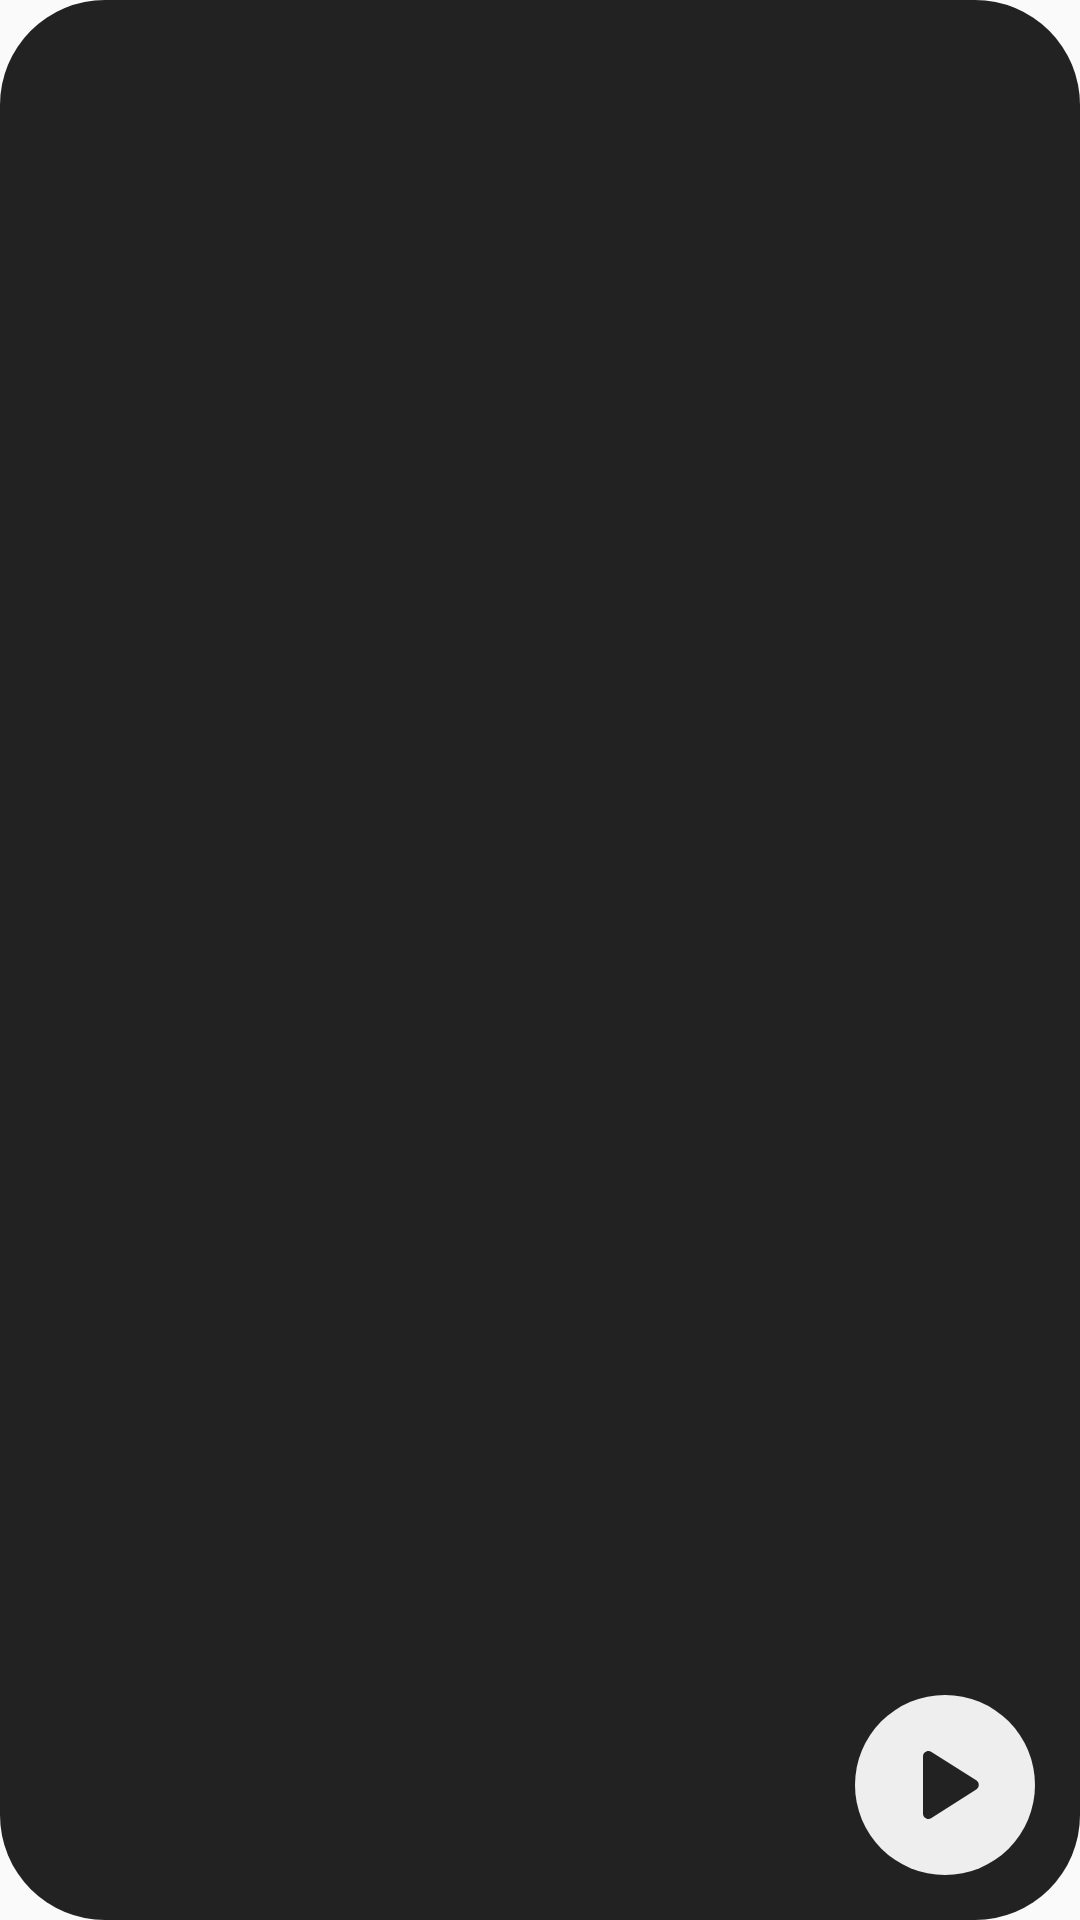

Screen size 1080 x 1920. Icon name, then its center in pixels as (x,y):
Resume music: (945,1785)
